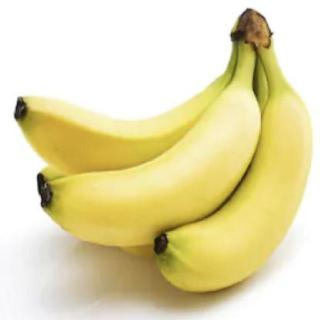banana: (39, 85, 262, 252), (153, 86, 314, 294), (11, 74, 233, 184)
